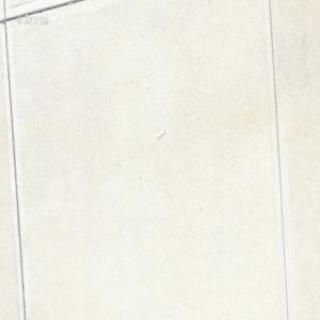Wrenchtrack_idkeyframe: (156, 129, 164, 139)
